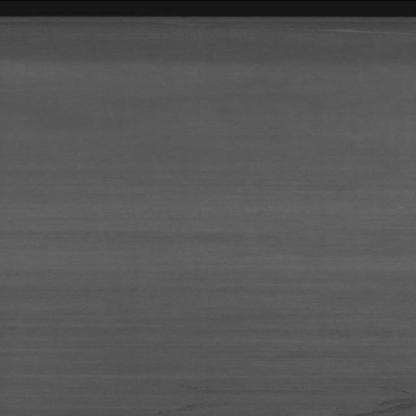water_spot: (334, 388, 415, 416)
